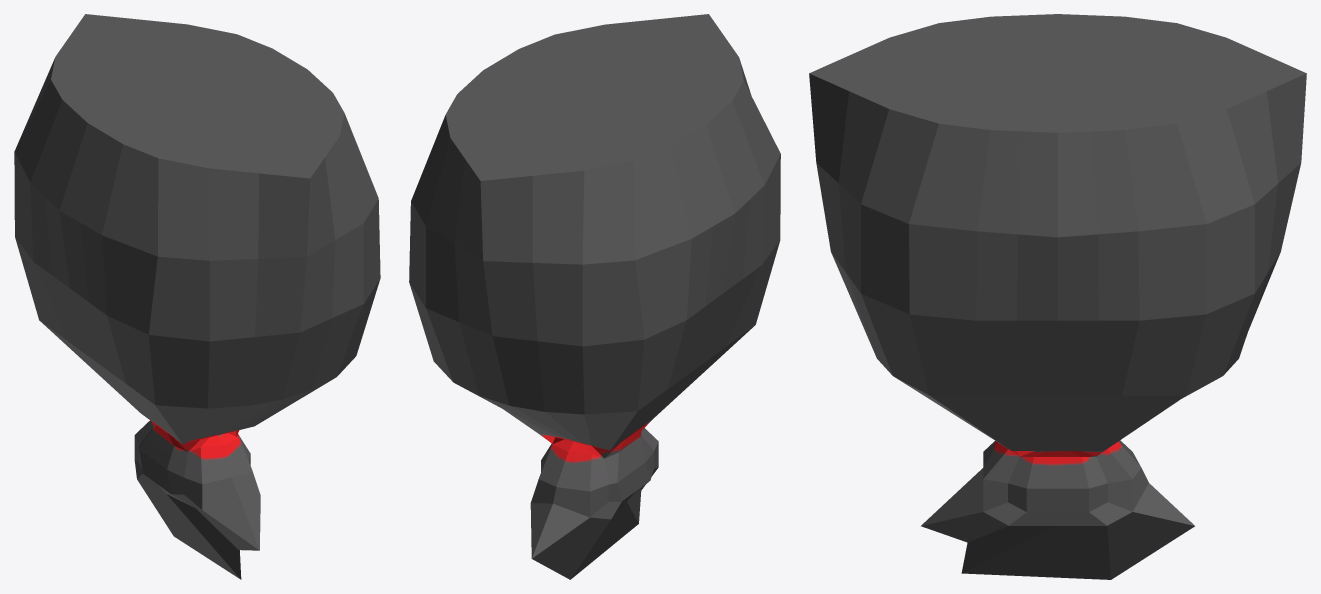
File: trashbag.fbx
The picture shows the model from 3 angles, left to right: view 1: azimuth 30°, elevation 25°; view 2: azimuth 150°, elevation 25°; view 3: azimuth 270°, elevation 25°; orthographic projection. The views are drawn at different scales.
Visible parts, largest first — view 1: node_id4; view 2: node_id4; view 3: node_id4.
Boxes of the visible parts, x1=… form: node_id4: x1=14, y1=14, x2=380, y2=579; node_id4: x1=409, y1=14, x2=780, y2=579; node_id4: x1=809, y1=14, x2=1306, y2=579.
Size of the model in its own units: 0.324 by 0.512 by 0.456.
1 material, 1 textured.
